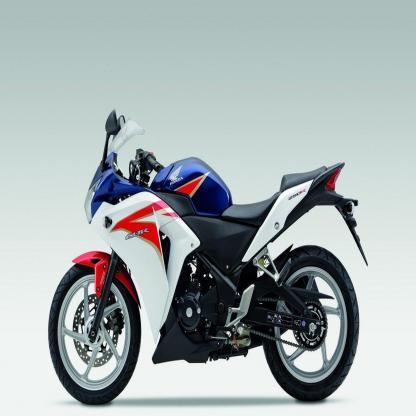Motorcycle: (43, 108, 372, 407)
